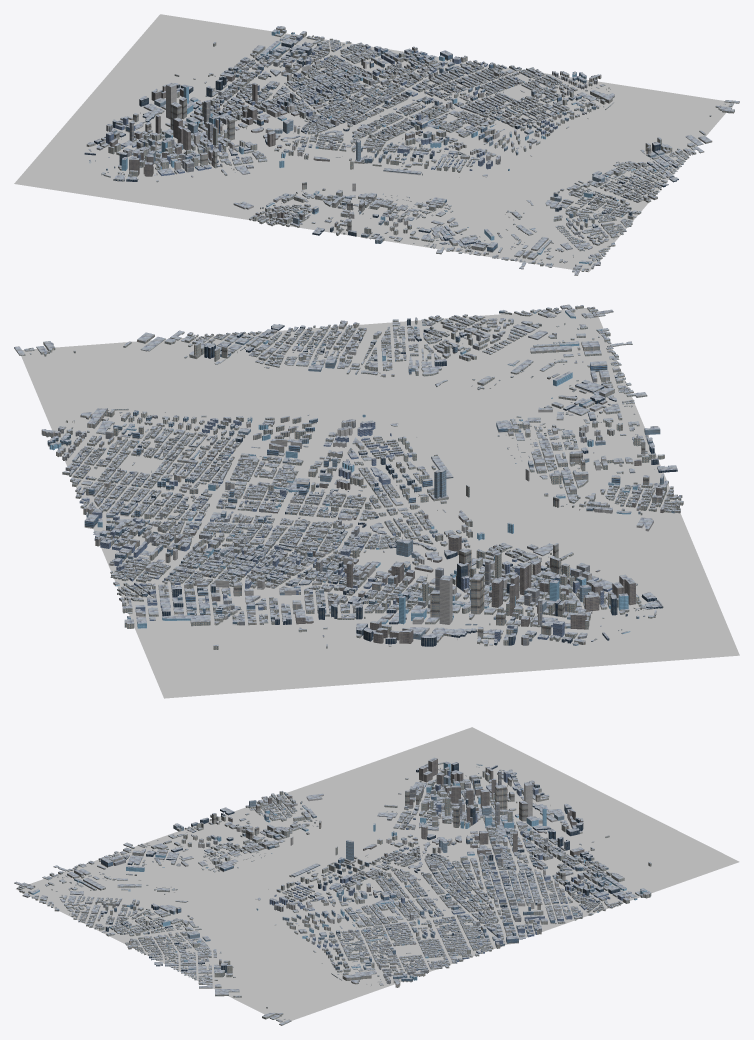
File: Manhattan.fbx
3 views of the same model, one above another, from view 1: azimuth 30°, elevation 25°; view 2: azimuth 150°, elevation 25°; view 3: azimuth 270°, elevation 25° (orthographic). The views are drawn at different scales.
Visible parts, largest first — view 1: EXPORT_GOOGLE_SAT_WM, Areas:building; view 2: EXPORT_GOOGLE_SAT_WM, Areas:building; view 3: EXPORT_GOOGLE_SAT_WM, Areas:building.
Part boxes in pixels (bbox=[...]): EXPORT_GOOGLE_SAT_WM: bbox=[14, 14, 733, 272]; Areas:building: bbox=[84, 26, 739, 275]; EXPORT_GOOGLE_SAT_WM: bbox=[21, 308, 739, 698]; Areas:building: bbox=[14, 304, 683, 649]; EXPORT_GOOGLE_SAT_WM: bbox=[16, 727, 739, 1022]; Areas:building: bbox=[14, 757, 651, 1025].
Bounding box in the file's own units: 8302 × 410 × 8525.
